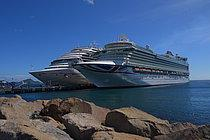Ship: (71, 34, 197, 94)
